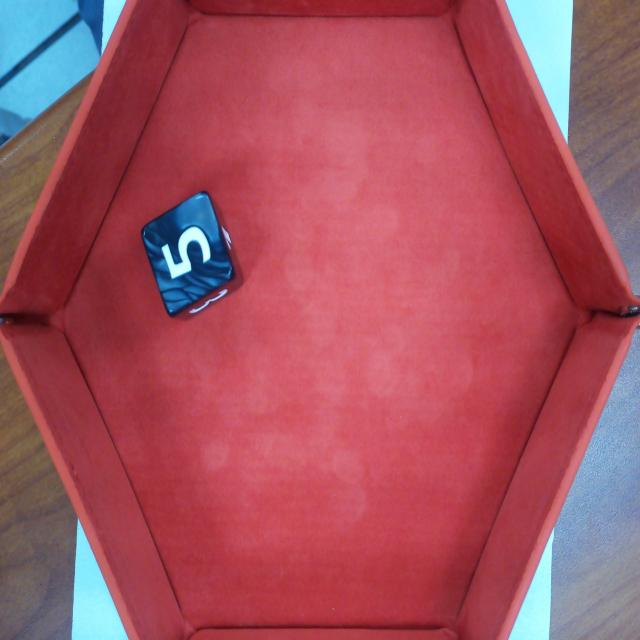dice: (146, 195, 229, 305)
